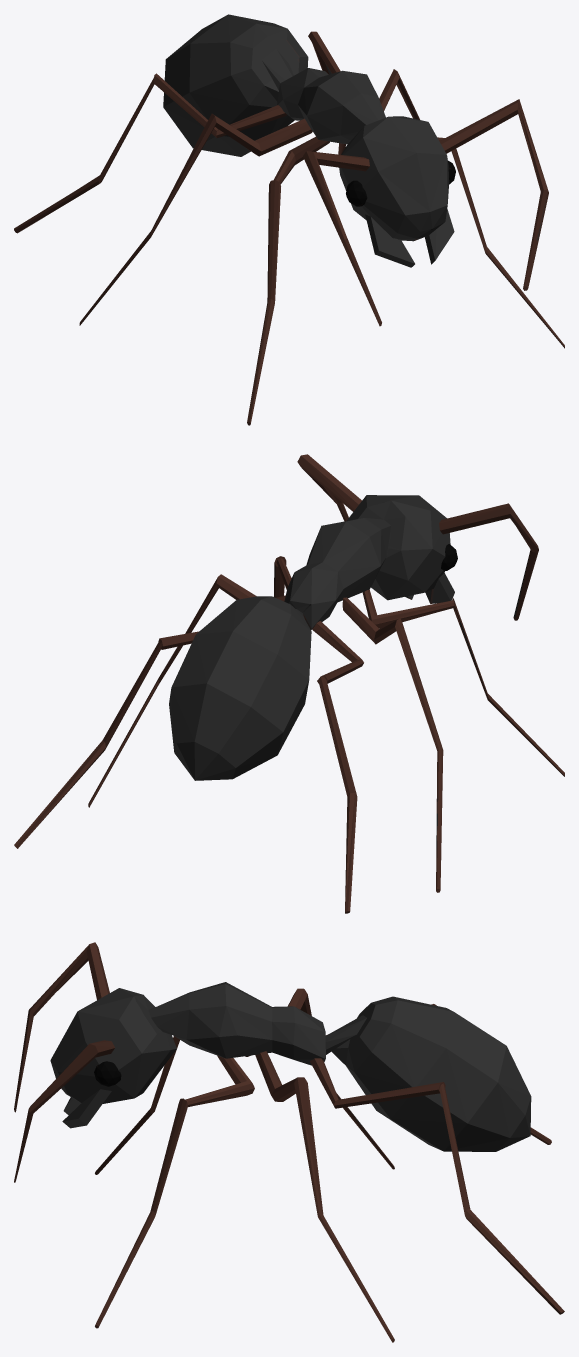
Rendered from ant.obj.
3 renders of one model, top to bottom at view 1: azimuth 30°, elevation 25°; view 2: azimuth 150°, elevation 25°; view 3: azimuth 270°, elevation 25°, orthographic.
Visible parts, largest first — view 1: Ant; view 2: Ant; view 3: Ant.
Part boxes in pixels (<box>): Ant: <box>14,14,564,425</box>; Ant: <box>14,454,564,913</box>; Ant: <box>14,942,564,1342</box>.
Bounding box in the file's own units: 1.56 × 1.13 × 2.08.
Materials: 1 (1 with a texture image).
